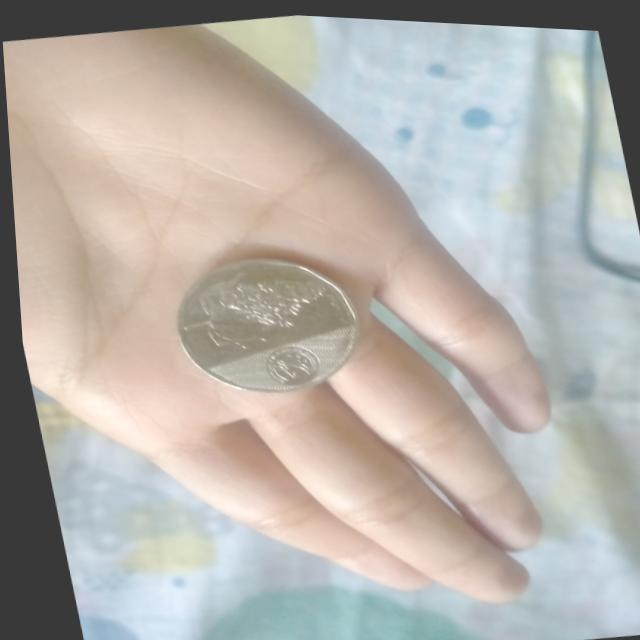10_New_Back: (168, 258, 353, 399)
